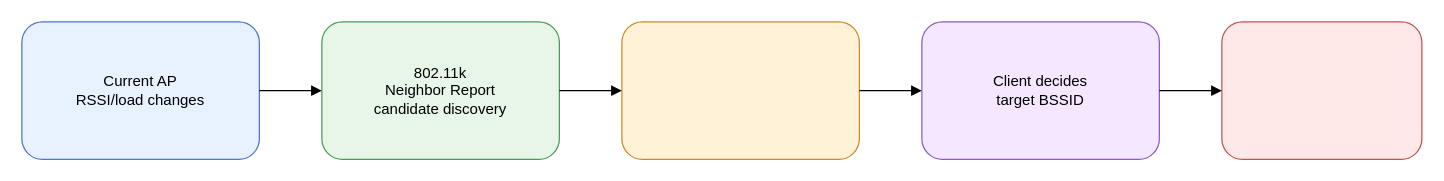
The diagram is 1444 pixels wide and 181 high, and some of its shapes have lost their labels. The centre of each missing label's shape, as x and y in pixels:
802.11r Fast Transition reassociate: pixel 1321 90
802.11v BSS Transition network advice: pixel 740 90
